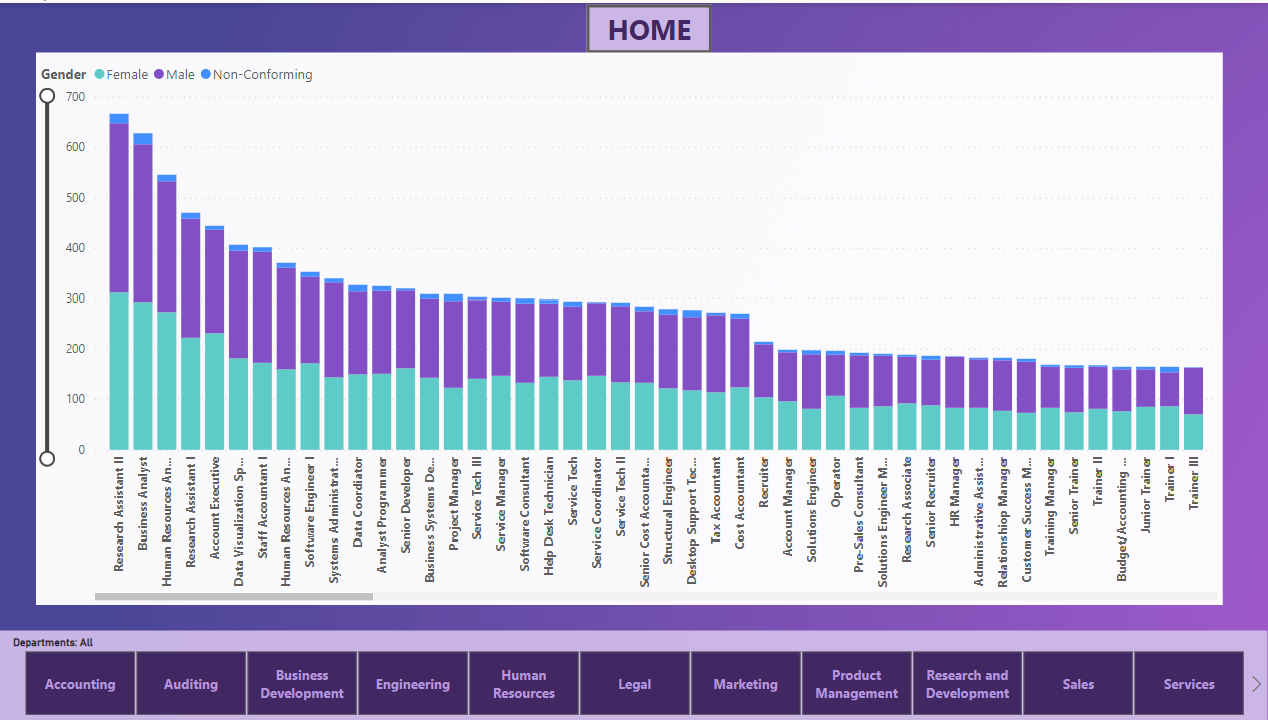

Layout of this report page (visuals, bound fields, positions):
{"tool":"powerbi","page":{"name":"Page 3","canvas":[1280,720],"ordinal":2},"visuals":[{"type":"actionButton","box":[591.5,1.9,126.6,49.1],"z":0},{"type":"slicer","fields":{"Values":["hr.department"]},"box":[0,628.4,1279.5,90.9],"z":1000},{"type":"columnChart","fields":{"Category":["hr.jobtitle"],"Y":["CountNonNull(hr.gender)"],"Series":["hr.gender"]},"box":[36.3,50,1197.7,552.7],"z":2000}]}

Visuals, with their boxes in screenshot pixels (x1, y1, x2, y2), scaled from the page's 1280x720 canvas onto the 1268x720 screenshot:
actionButton: <bbox>586, 2, 711, 51</bbox>
slicer - hr.department: <bbox>0, 628, 1267, 719</bbox>
columnChart - hr.jobtitle x CountNonNull(hr.gender): <bbox>36, 50, 1222, 603</bbox>
